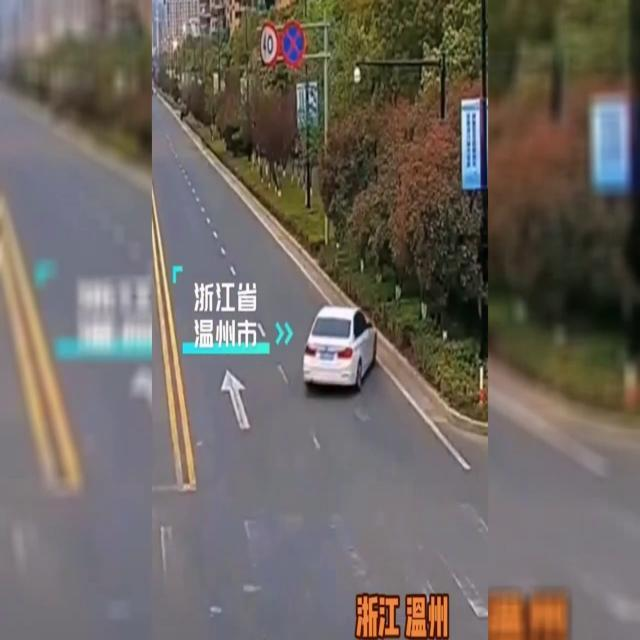normal: (293, 257, 393, 408)
